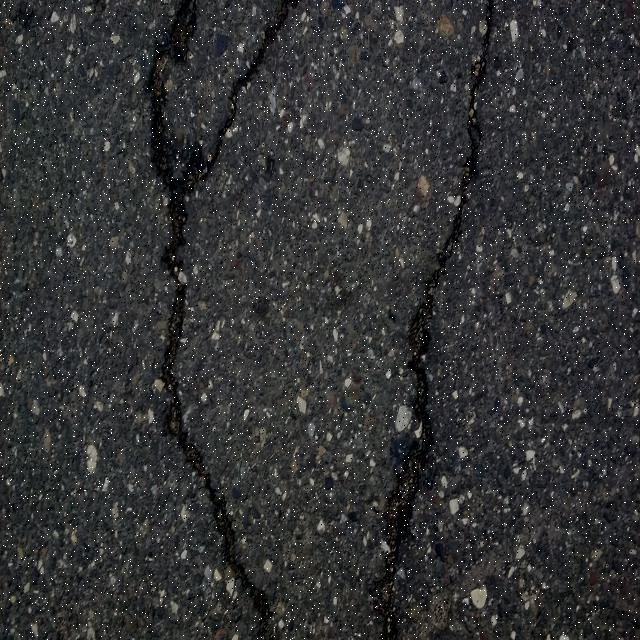Crack: (151, 0, 297, 640), (370, 1, 493, 640)
